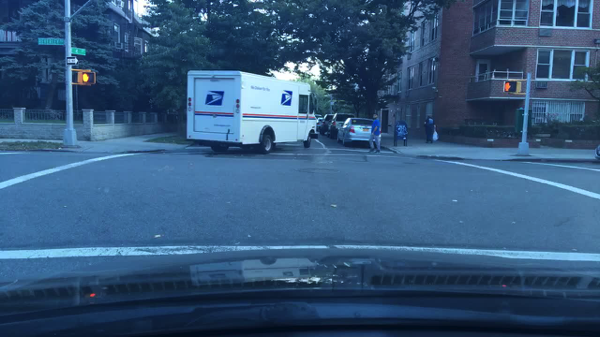car: (336, 118, 381, 147), (326, 112, 357, 139), (319, 113, 334, 135), (316, 117, 324, 132), (593, 145, 599, 160), (315, 114, 321, 120)
person: (368, 113, 381, 153), (422, 114, 438, 144)
traffic light: (77, 68, 96, 87), (502, 81, 519, 94)
traffic sign: (37, 38, 65, 46), (71, 46, 87, 56), (65, 56, 78, 65)
truck: (186, 70, 321, 154)
